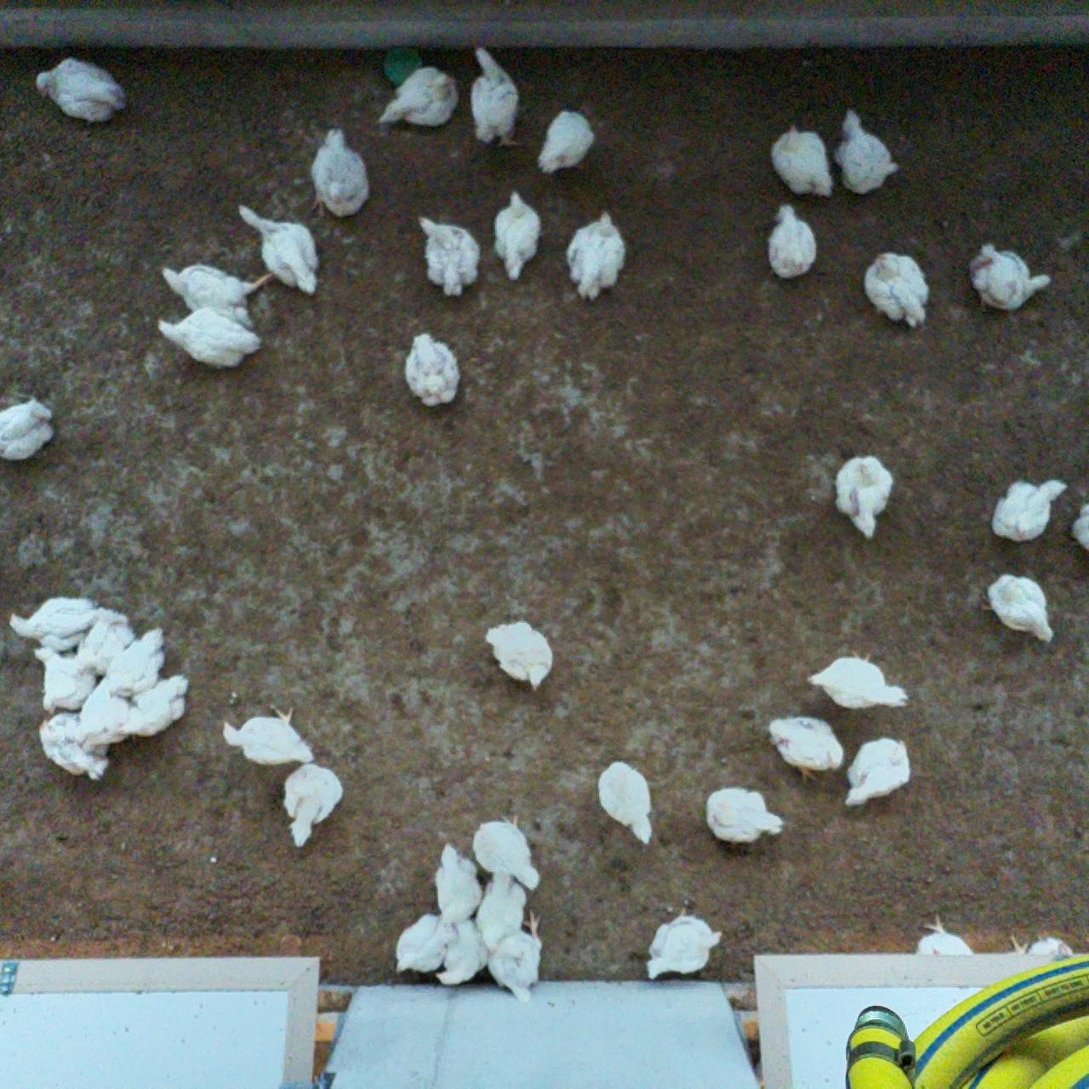chicken: (159, 258, 274, 329), (241, 205, 322, 295), (156, 306, 260, 372), (806, 651, 909, 714), (35, 56, 128, 124), (967, 239, 1053, 312), (645, 904, 724, 983), (6, 594, 105, 657), (468, 809, 543, 892), (564, 211, 631, 302), (468, 42, 524, 150), (486, 909, 549, 1005), (979, 569, 1055, 646), (414, 212, 481, 299), (221, 703, 315, 765), (310, 125, 371, 220), (836, 105, 898, 198), (832, 452, 897, 539), (863, 248, 931, 331), (769, 123, 841, 199), (483, 618, 554, 695), (284, 762, 345, 850), (378, 64, 458, 131), (842, 736, 914, 810), (906, 913, 977, 988), (991, 475, 1068, 544), (595, 758, 656, 845), (999, 928, 1077, 995), (116, 672, 192, 740), (490, 186, 544, 281), (39, 709, 110, 781), (704, 785, 787, 846), (28, 642, 96, 715), (71, 613, 143, 680), (103, 626, 169, 699), (473, 868, 528, 952), (404, 332, 463, 409), (765, 199, 819, 282), (538, 105, 599, 177), (435, 910, 489, 990), (433, 842, 485, 925), (394, 908, 456, 977), (72, 676, 129, 750), (0, 396, 54, 466), (1070, 499, 1089, 563)
